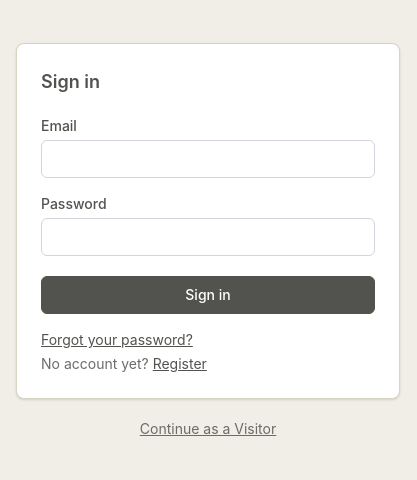
Test: LoginPage › shows the server's message when the credentials are wrong, and stays put
Type "visitor@example.com" into the field labelled "Email" at (208, 159), box [41, 140, 375, 178]
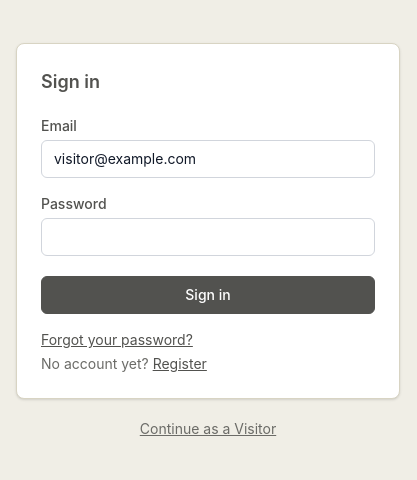
Type "wrong" into the password field labelled "Password" at (208, 237), box [41, 218, 375, 256]
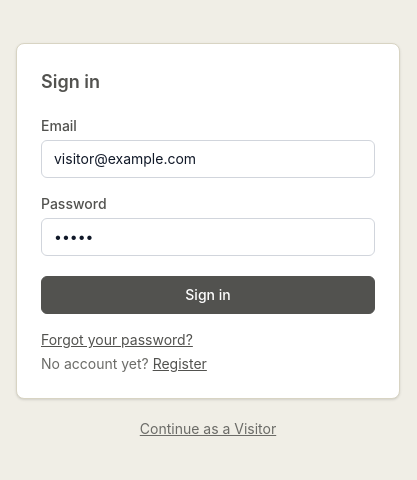
Click the button "Sign in" at (208, 295), box [41, 276, 375, 314]
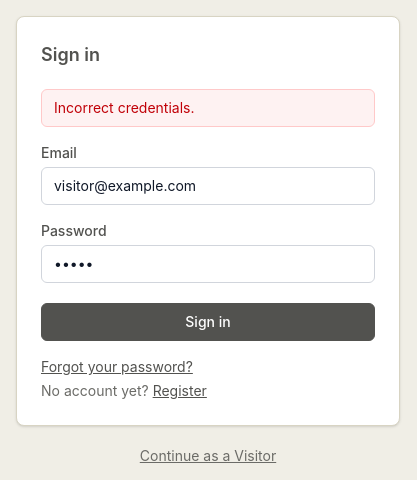
Expected: the button "Sign in" is shown, [41, 303, 375, 341]
Expected: the message reads "Incorrect credentials.", [54, 99, 194, 116]
